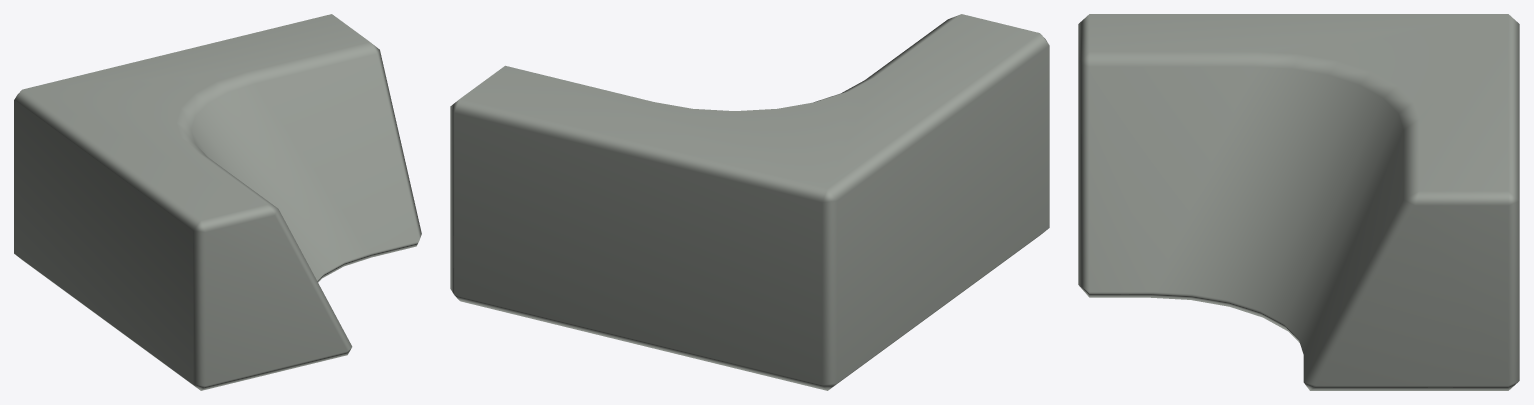
The model's file is Env_Wall_SpaceStation_InCorner_2x2.fbx.
The picture shows the model from 3 angles, left to right: view 1: azimuth 30°, elevation 25°; view 2: azimuth 150°, elevation 25°; view 3: azimuth 270°, elevation 25°; orthographic projection. The views are drawn at different scales.
Parts seen in each view (by area): view 1: Wall_Corner_Inner; view 2: Wall_Corner_Inner; view 3: Wall_Corner_Inner.
Boxes of the visible parts, bbox=[...] form: Wall_Corner_Inner: bbox=[14, 14, 421, 390]; Wall_Corner_Inner: bbox=[450, 14, 1049, 390]; Wall_Corner_Inner: bbox=[1078, 14, 1519, 390].
Size of the model in its own units: 200 by 100 by 200.
